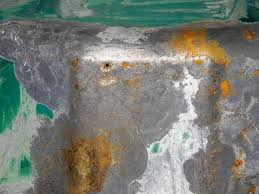rust: (63, 138, 118, 194), (181, 33, 232, 65)
